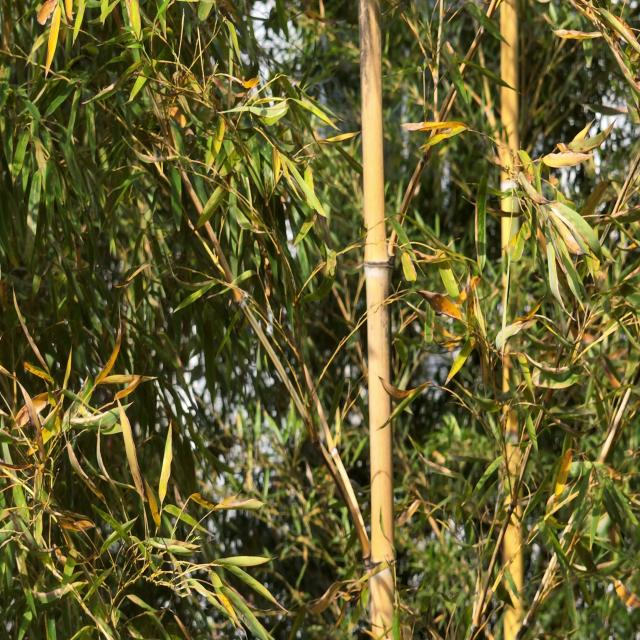Bamboo-shoots: (359, 0, 399, 640)
